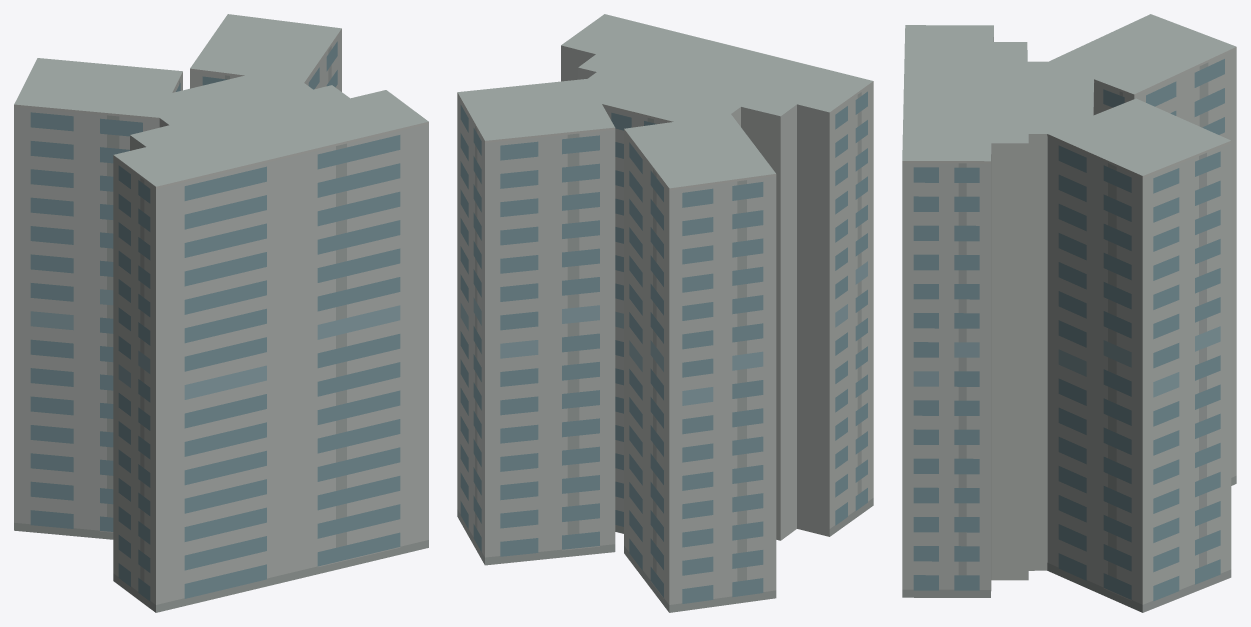
Rendered from residential-fb2708ce-9031-4833-9ea0-06ba32af5a3d.glb.
3 renders of one model, left to right at view 1: azimuth 30°, elevation 25°; view 2: azimuth 150°, elevation 25°; view 3: azimuth 270°, elevation 25°, orthographic. The views are drawn at different scales.
Parts seen in each view (by area): view 1: residential-fb2708ce-9031-4833-9ea0-06ba32af5a3d.tmp; view 2: residential-fb2708ce-9031-4833-9ea0-06ba32af5a3d.tmp; view 3: residential-fb2708ce-9031-4833-9ea0-06ba32af5a3d.tmp.
Part boxes in pixels (<box>): residential-fb2708ce-9031-4833-9ea0-06ba32af5a3d.tmp: <box>14,14,428,612</box>; residential-fb2708ce-9031-4833-9ea0-06ba32af5a3d.tmp: <box>457,14,873,612</box>; residential-fb2708ce-9031-4833-9ea0-06ba32af5a3d.tmp: <box>902,14,1236,612</box>.
Bounding box in the file's own units: 35.81 × 45 × 31.24.
